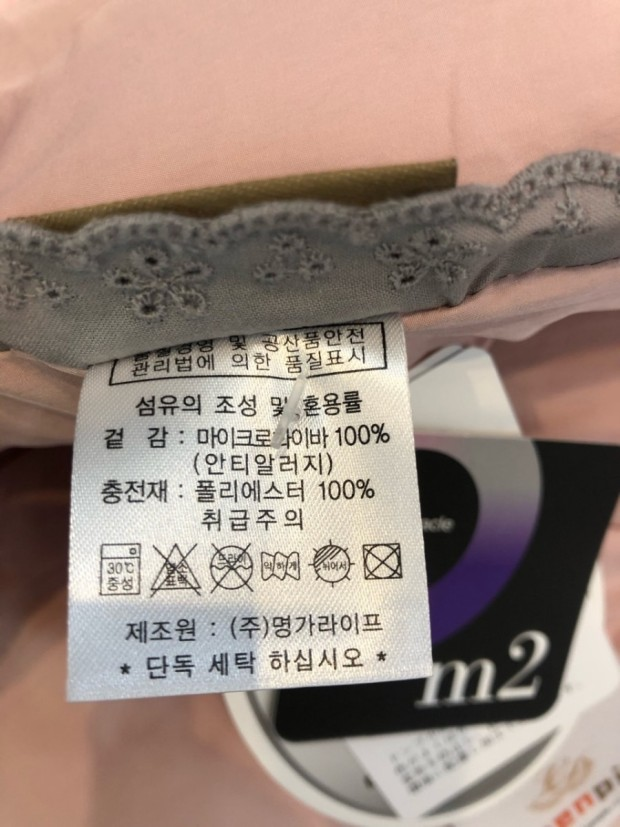KR_flat_dry_in_shade: (309, 540, 357, 587)
KR_gentle_wring: (258, 545, 307, 587)
KR_no_chlorine_bleach: (150, 541, 201, 594)
KR_no_dry_clean: (207, 540, 257, 592)
KR_no_tumble_dry: (360, 538, 405, 585)
KR_wash_warm_30_neutral: (94, 540, 145, 600)
